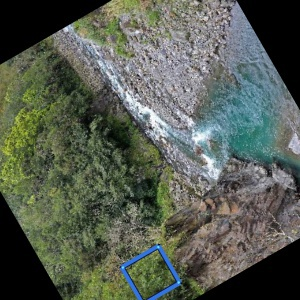square: (120, 244, 184, 300)
